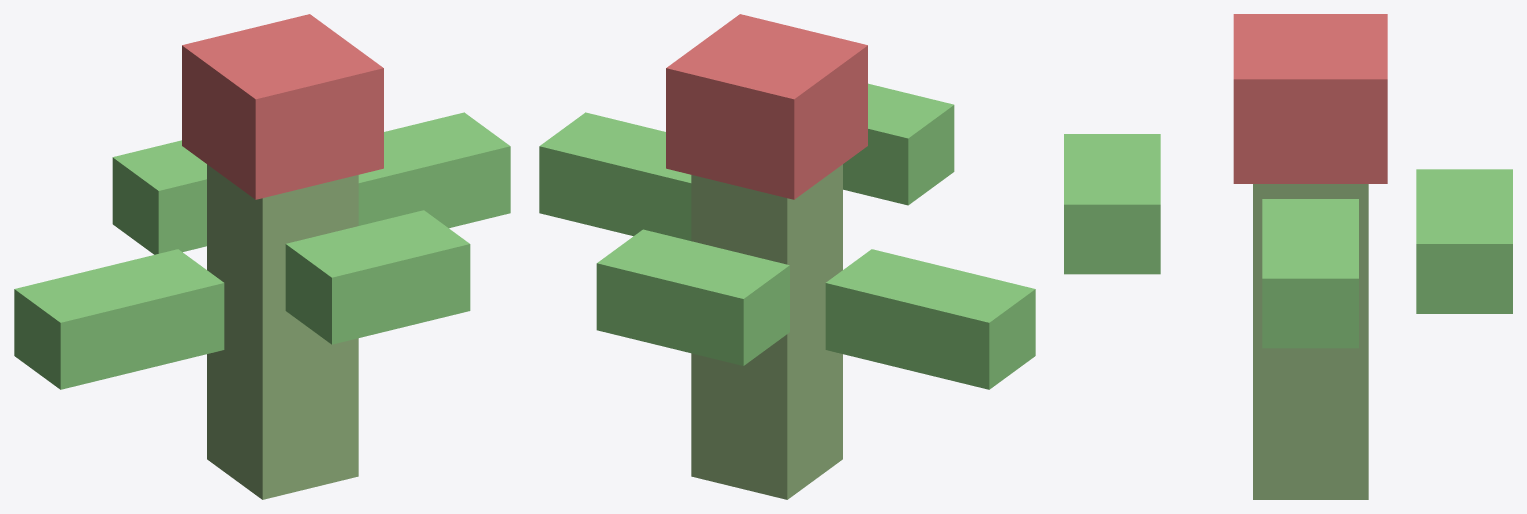
File: Prop_Herb_AMF_Barkbalm_V2.glb
3 views of the same model, side by side, from view 1: azimuth 30°, elevation 25°; view 2: azimuth 150°, elevation 25°; view 3: azimuth 270°, elevation 25° (orthographic). The views are drawn at different scales.
Parts seen in each view (by area): view 1: Prop_Herb_AMF_Barkbalm_V2; view 2: Prop_Herb_AMF_Barkbalm_V2; view 3: Prop_Herb_AMF_Barkbalm_V2.
Boxes of the visible parts, x1=… form: Prop_Herb_AMF_Barkbalm_V2: x1=14, y1=14, x2=510, y2=499; Prop_Herb_AMF_Barkbalm_V2: x1=539, y1=14, x2=1035, y2=499; Prop_Herb_AMF_Barkbalm_V2: x1=1064, y1=14, x2=1512, y2=499.
Size of the model in its own units: 0.2811 by 0.2455 by 0.2327.
